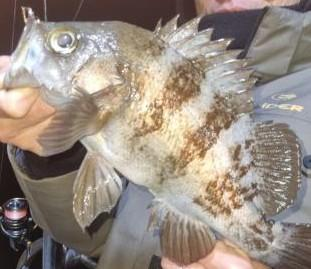fish: (0, 14, 310, 268)
